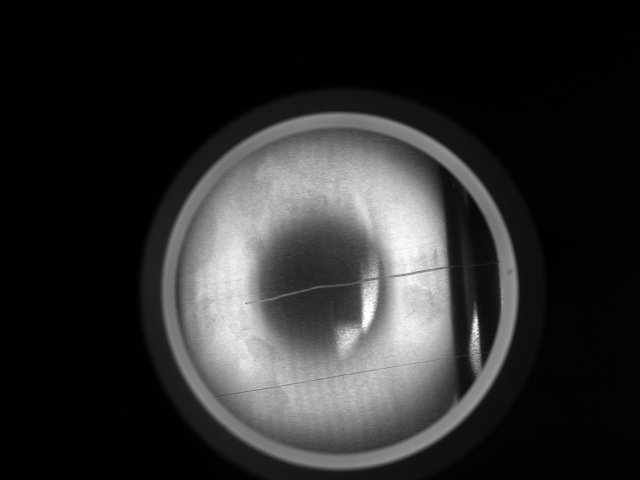ca_shang: (216, 353, 475, 396), (241, 262, 475, 306)
